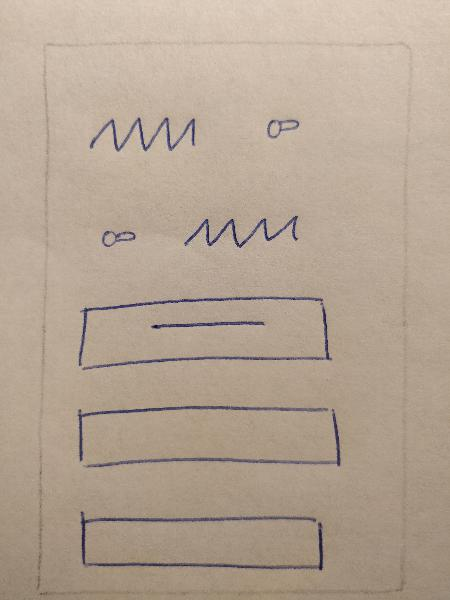button: (69, 287, 343, 374)
switch: (253, 110, 314, 150), (87, 215, 145, 257)
text: (75, 104, 218, 164), (172, 206, 312, 254)
text_input: (72, 396, 357, 483), (73, 503, 331, 580)
